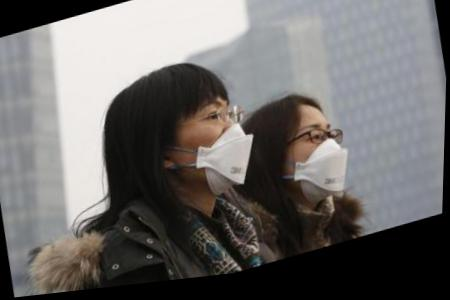OK: (263, 116, 360, 219)
WRONG: (153, 88, 264, 206)
